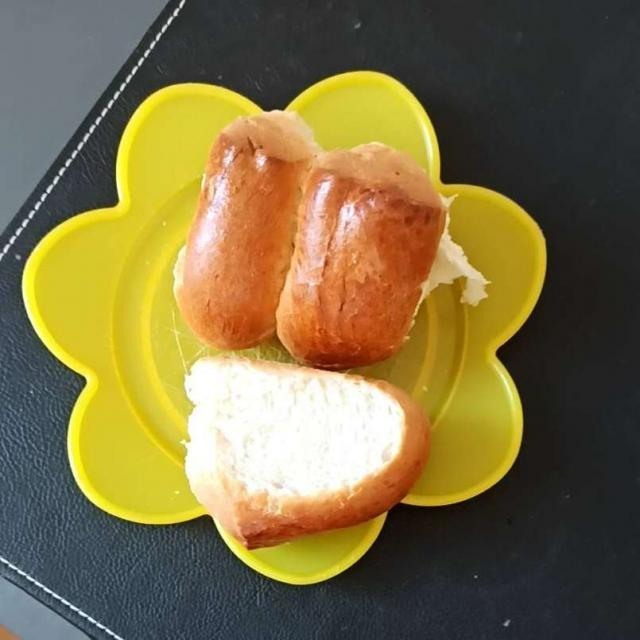bread: (164, 105, 488, 565)
